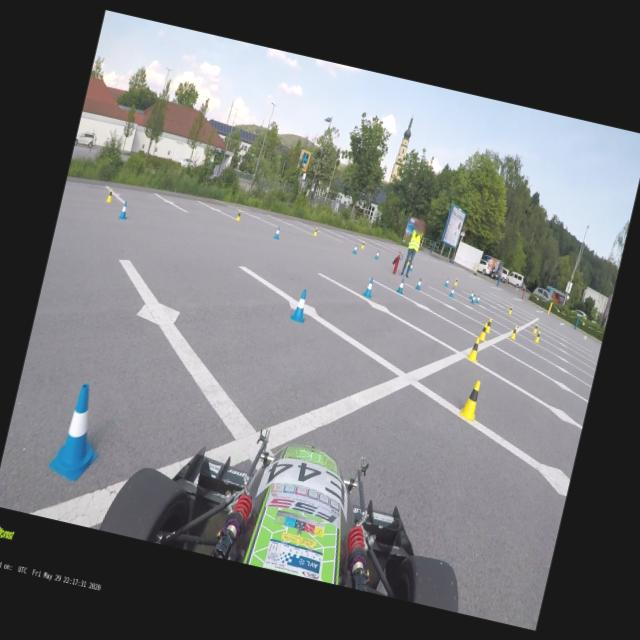blue_cone: (49, 382, 113, 484), (290, 288, 310, 323), (362, 276, 375, 298), (117, 200, 129, 220), (396, 277, 406, 294), (272, 226, 282, 240), (414, 277, 422, 291), (443, 276, 450, 288), (448, 286, 455, 298), (469, 293, 476, 305), (351, 243, 358, 254), (468, 290, 475, 300), (474, 294, 480, 304), (407, 262, 413, 272), (374, 249, 379, 260)
yellow_cone: (458, 378, 484, 422), (466, 336, 482, 364), (474, 320, 490, 343), (104, 187, 114, 204), (482, 317, 492, 334), (508, 324, 518, 340), (532, 329, 542, 343), (234, 208, 242, 222), (531, 322, 538, 333), (312, 226, 318, 237), (452, 276, 458, 286), (507, 305, 512, 315), (360, 240, 364, 249)
